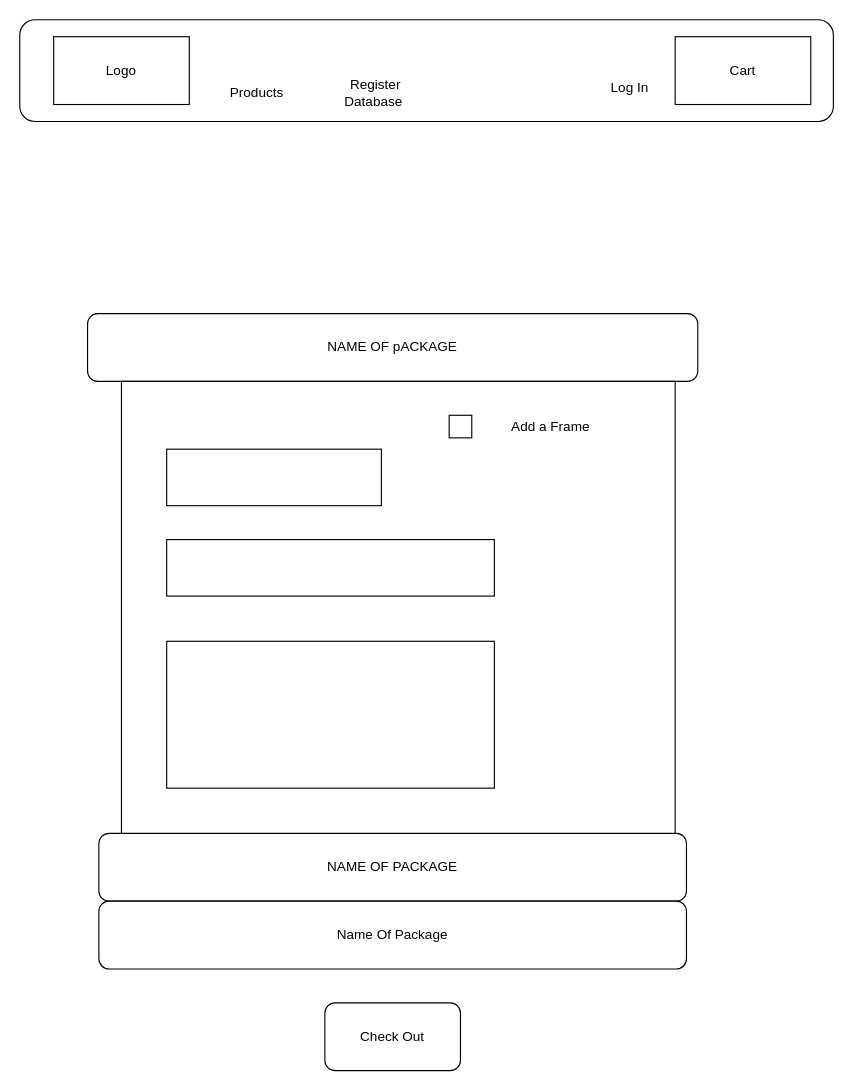
The diagram is 853 pixels wide and 1090 high, and some of its shapes have lost their labels. Here are the shapes that lost their labels. From the top down, the centre of each, then its label:
(x=273, y=477): Name Your Star Input
(x=330, y=567): Choose Star (Product Search in drop down)
(x=330, y=714): Personal Message On Certificate
